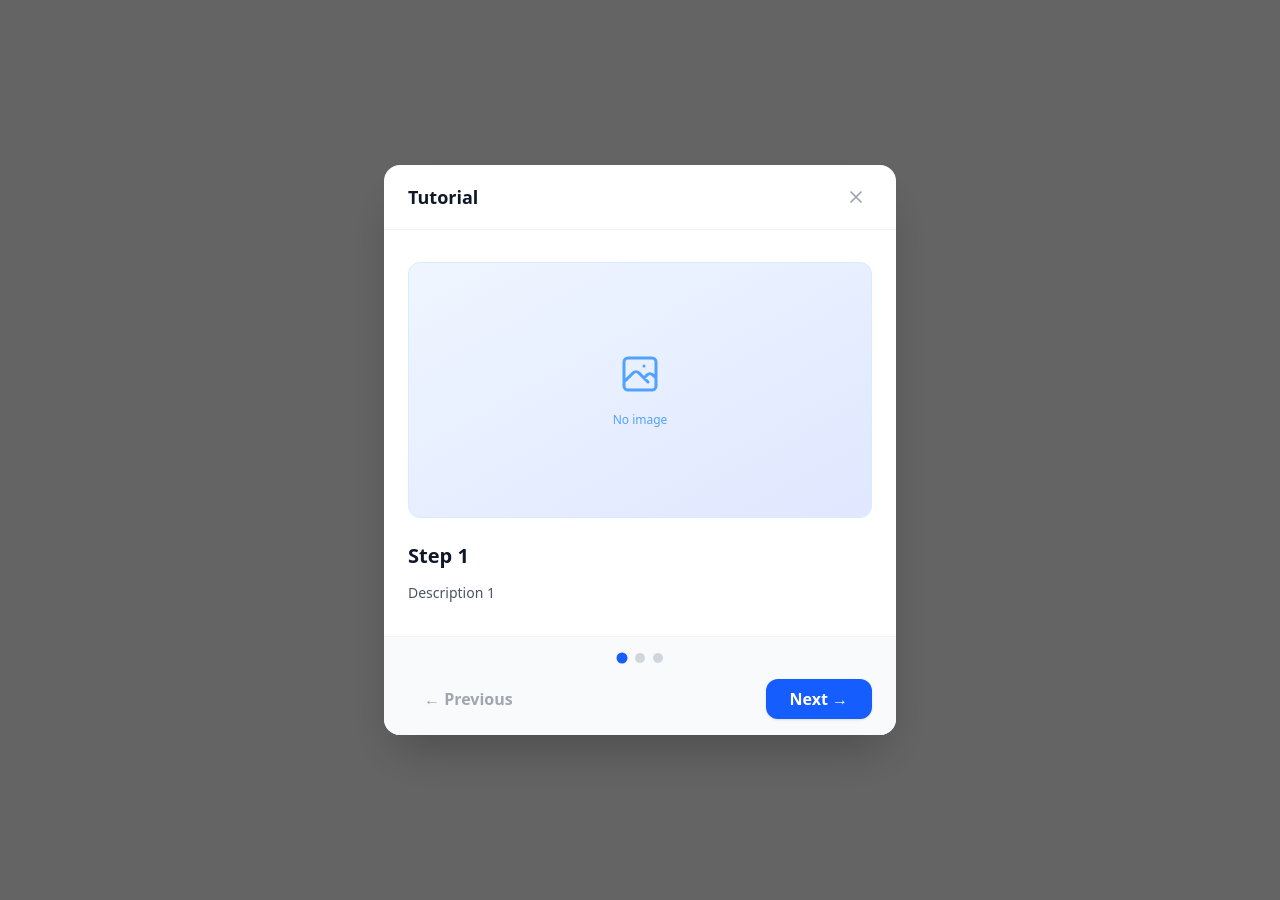
Scenario: TutorialModal › navigates to next step when clicking Next
This screenshot has width=1280, height=900.
What coordinates should you click on to do the following:
click the button "Next →"
I would click on:
 (819, 699)
Its box is top-left (766, 679), bottom-right (872, 719).
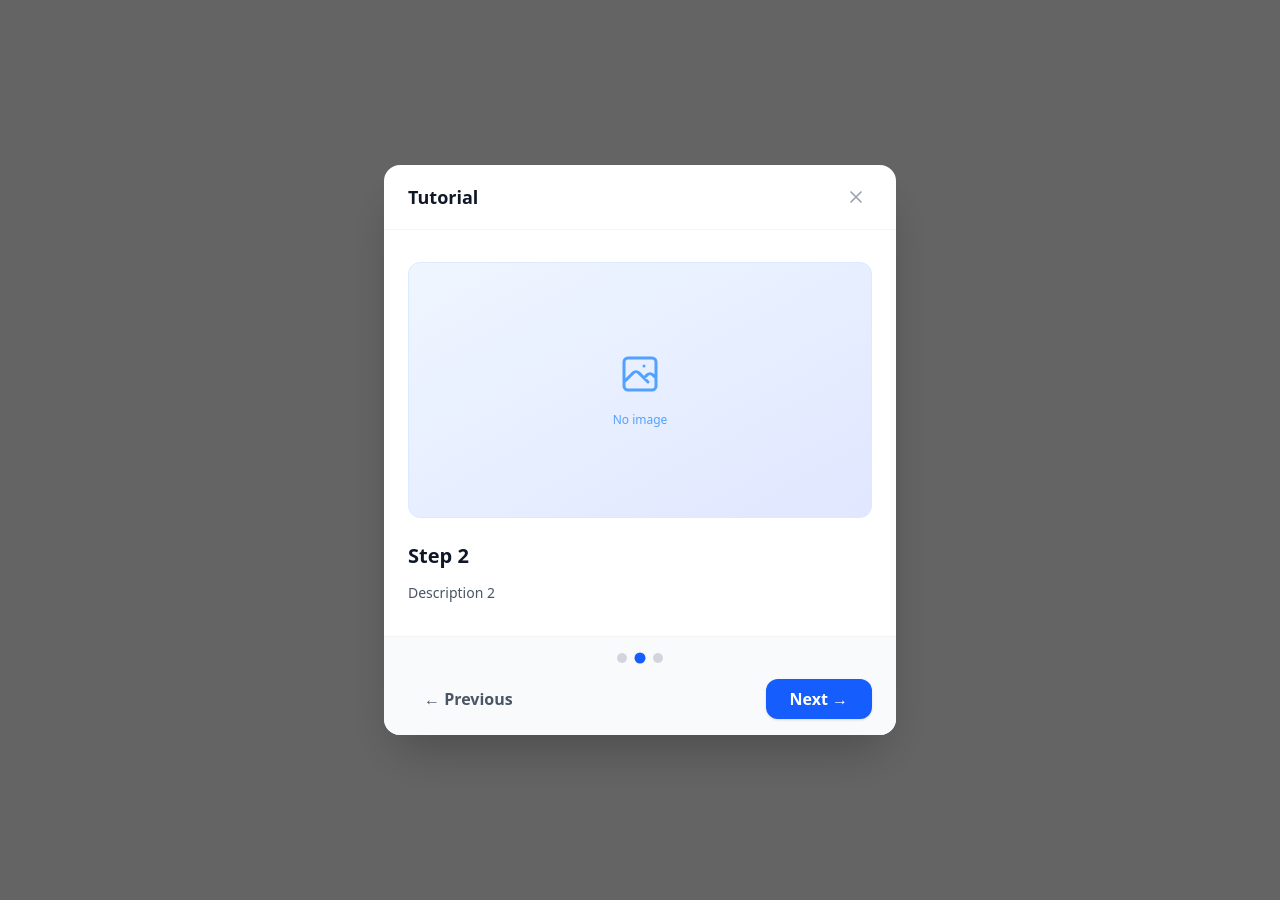
expect the heading "Step 2" is shown: met, box top-left (408, 542), bottom-right (469, 569)
expect the text "Description 2" is shown: met, box top-left (408, 583), bottom-right (495, 602)
